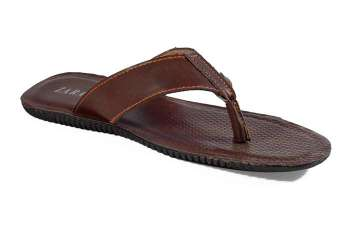Footwear: (18, 40, 333, 180)
